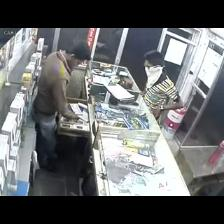person: (33, 42, 90, 171), (143, 51, 184, 118)
